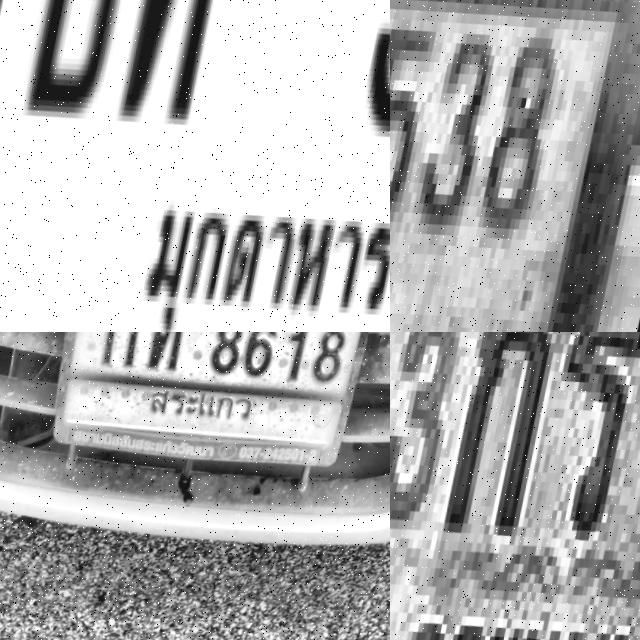license-plate: (0, 0, 390, 332), (390, 0, 640, 332), (390, 332, 640, 640), (37, 332, 376, 501)
